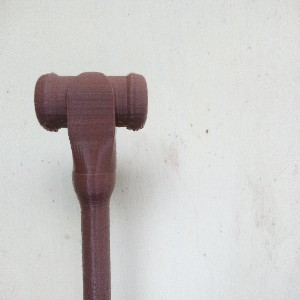palu: (34, 69, 149, 300)
